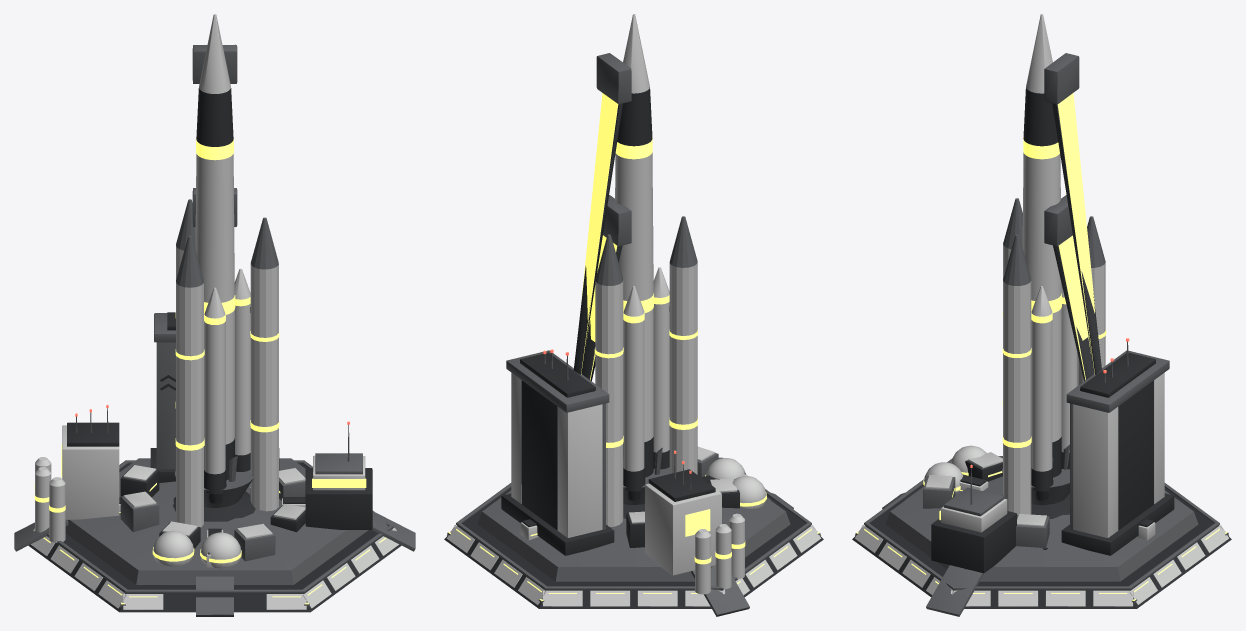
The model's file is sb_shipyard_t2.glb.
3 renders of one model, left to right at view 1: azimuth 30°, elevation 25°; view 2: azimuth 150°, elevation 25°; view 3: azimuth 270°, elevation 25°, orthographic.
Visible parts, largest first — view 1: SM_LC_BODY, SM_LC2_BOOSTERS, SM_LC2_BOOSTER_NOSES, SM_LC_LIGHTS, SM_LC2_TANKS, SM_LC2_BOOSTER_GLOW; view 2: SM_LC_BODY, SM_LC2_BOOSTERS, SM_LC_LIGHTS, SM_LC2_BOOSTER_NOSES, SM_LC2_TANKS, SM_LC2_BOOSTER_GLOW; view 3: SM_LC_BODY, SM_LC2_BOOSTERS, SM_LC_LIGHTS, SM_LC2_BOOSTER_NOSES, SM_LC2_TANKS.
Part boxes in pixels (left/top/right/bottom): SM_LC_BODY: left=14, top=14, right=415, bottom=616; SM_LC2_BOOSTERS: left=176, top=246, right=278, bottom=527; SM_LC2_BOOSTER_NOSES: left=176, top=199, right=278, bottom=287; SM_LC_LIGHTS: left=34, top=139, right=386, bottom=604; SM_LC2_TANKS: left=153, top=530, right=240, bottom=568; SM_LC2_BOOSTER_GLOW: left=175, top=312, right=279, bottom=450; SM_LC_BODY: left=444, top=14, right=823, bottom=616; SM_LC2_BOOSTERS: left=595, top=262, right=697, bottom=526; SM_LC_LIGHTS: left=448, top=93, right=819, bottom=600; SM_LC2_BOOSTER_NOSES: left=595, top=216, right=697, bottom=285; SM_LC2_TANKS: left=705, top=458, right=766, bottom=508; SM_LC2_BOOSTER_GLOW: left=594, top=329, right=697, bottom=447; SM_LC_BODY: left=852, top=14, right=1231, bottom=616; SM_LC2_BOOSTERS: left=1003, top=244, right=1105, bottom=514; SM_LC_LIGHTS: left=856, top=93, right=1227, bottom=600; SM_LC2_BOOSTER_NOSES: left=1003, top=198, right=1105, bottom=285; SM_LC2_TANKS: left=924, top=445, right=986, bottom=492.
Bounding box in the file's own units: 51.4 × 81.93 × 53.6.
